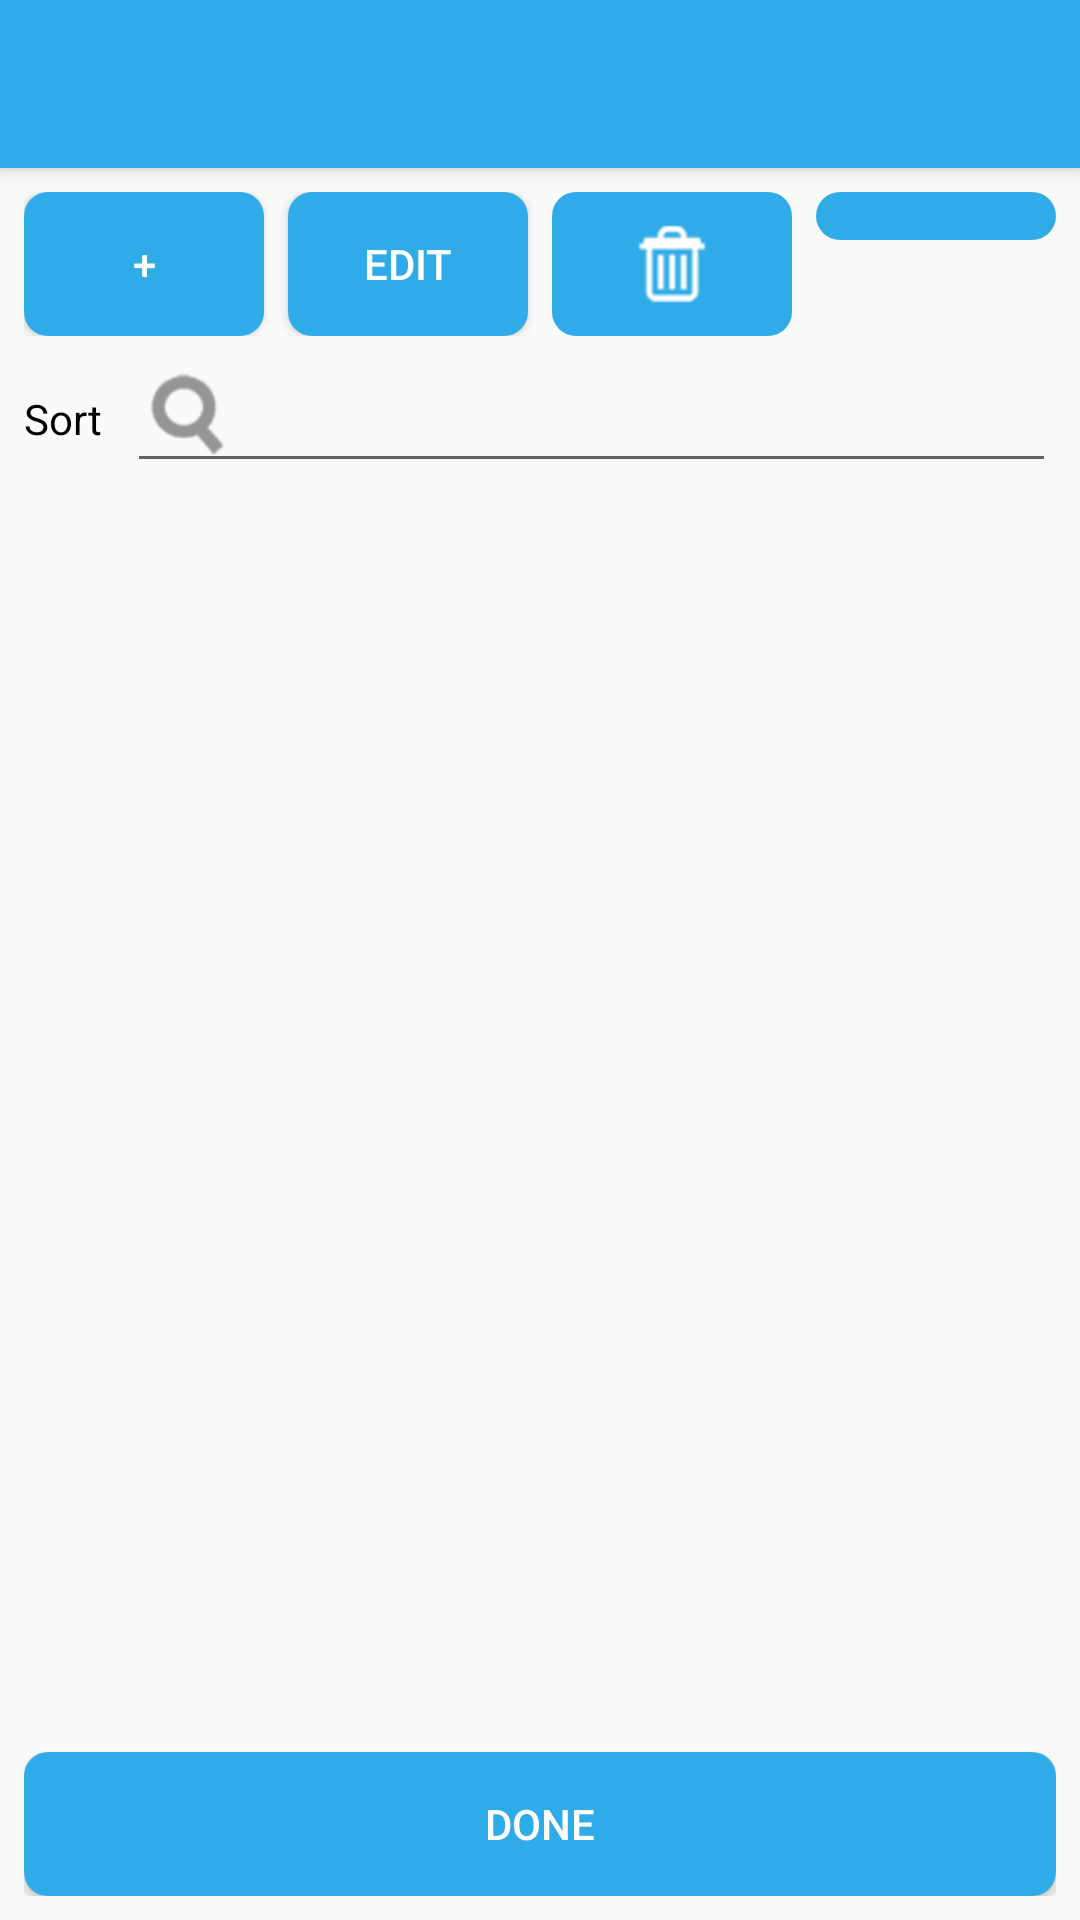

Icons on this 1080 × 1920 Android screen, each with its box as {"left": x1, "top": y1, "right": x2, "bottom": y2}:
delete: {"left": 552, "top": 192, "right": 792, "bottom": 336}
